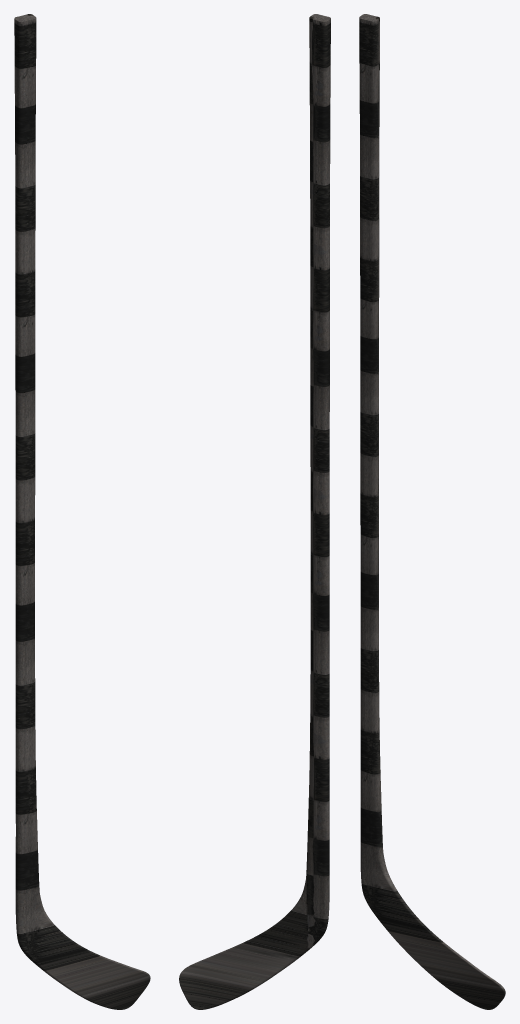
The model's file is P39-SBO.glb.
3 views of the same model, side by side, from view 1: azimuth 30°, elevation 25°; view 2: azimuth 150°, elevation 25°; view 3: azimuth 330°, elevation 25° (orthographic). The views are drawn at different scales.
Parts seen in each view (by area): view 1: geometry_0; view 2: geometry_0; view 3: geometry_0.
Part boxes in pixels (x1,y1,x2,y2): geometry_0: [14, 14, 150, 1009]; geometry_0: [179, 14, 330, 1009]; geometry_0: [359, 14, 505, 1009].
Size of the model in its own units: 240 by 1650 by 46.74.
1 material, 1 textured.
